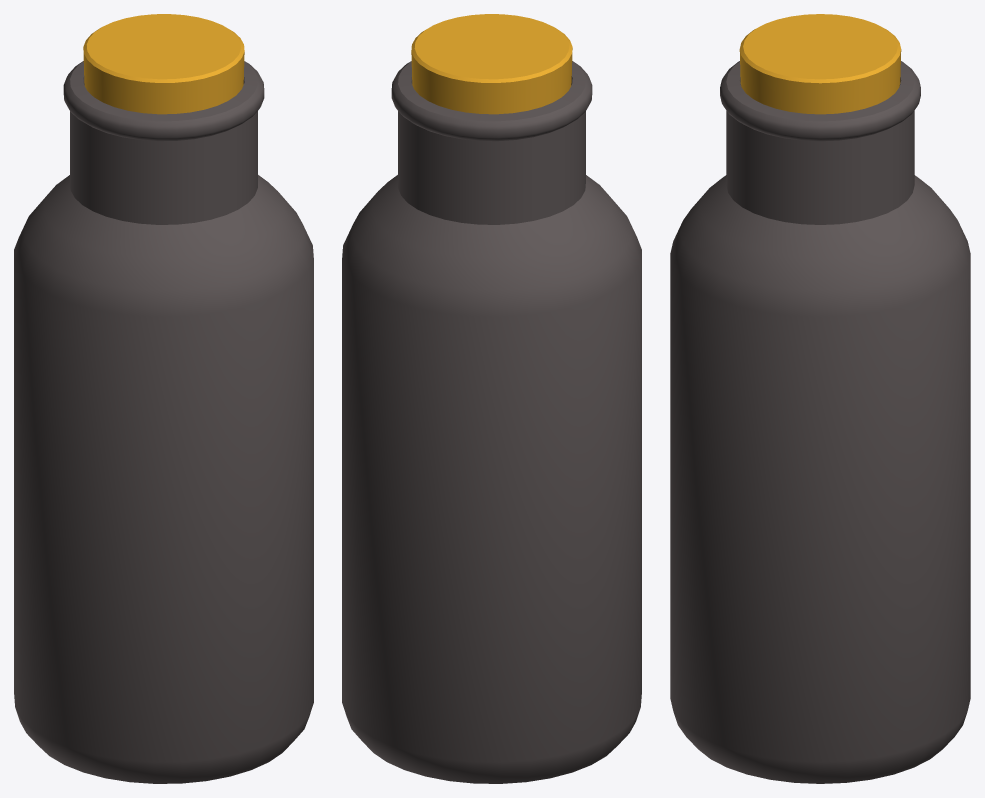
Rendered from flask_small.fbx.
3 views of the same model, side by side, from view 1: azimuth 30°, elevation 25°; view 2: azimuth 150°, elevation 25°; view 3: azimuth 270°, elevation 25° (orthographic).
Parts seen in each view (by area): view 1: flask_small; view 2: flask_small; view 3: flask_small.
Boxes of the visible parts, left/top/right/bottom form: flask_small: left=14, top=14, right=313, bottom=783; flask_small: left=342, top=14, right=641, bottom=783; flask_small: left=670, top=14, right=970, bottom=783.
Size of the model in its own units: 13.4 by 33.56 by 13.4.
